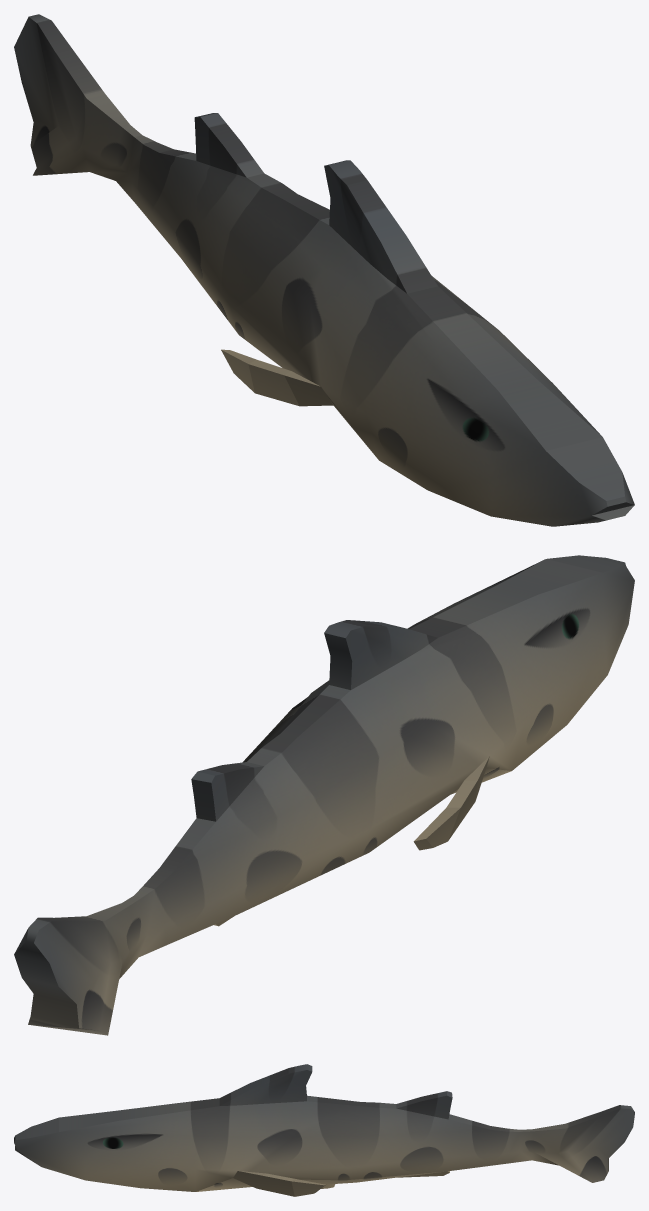
Rendered from leopardShark.fbx.
3 views of the same model, one above another, from view 1: azimuth 30°, elevation 25°; view 2: azimuth 150°, elevation 25°; view 3: azimuth 270°, elevation 25° (orthographic). The views are drawn at different scales.
Visible parts, largest first — view 1: LeopardShark; view 2: LeopardShark; view 3: LeopardShark.
Part boxes in pixels (bbox=[...]): LeopardShark: bbox=[14, 14, 634, 526]; LeopardShark: bbox=[14, 555, 634, 1035]; LeopardShark: bbox=[14, 1064, 634, 1196].
Size of the model in its own units: 0.7927 by 0.807 by 3.79.
